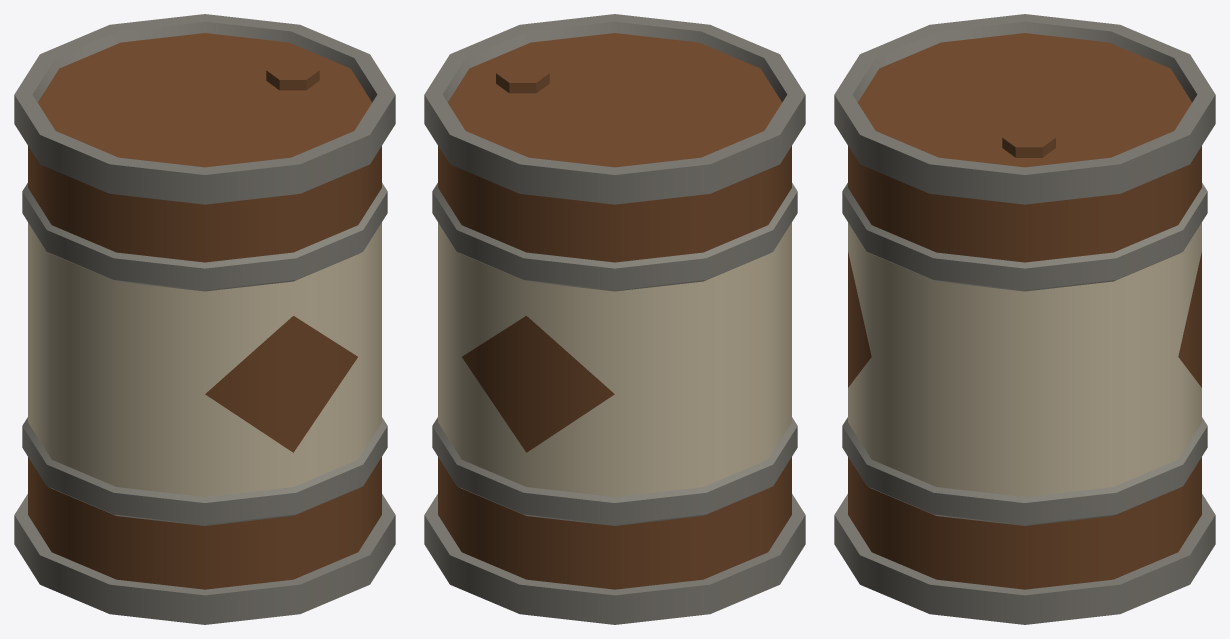
Rendered from cc0-exploding-barrel-lod1.glb.
The picture shows the model from 3 angles, left to right: view 1: azimuth 30°, elevation 25°; view 2: azimuth 150°, elevation 25°; view 3: azimuth 270°, elevation 25°; orthographic projection.
Parts seen in each view (by area): view 1: part_0; view 2: part_0; view 3: part_0.
Boxes of the visible parts, bbox=[...] form: part_0: bbox=[14, 14, 395, 624]; part_0: bbox=[424, 14, 805, 624]; part_0: bbox=[834, 14, 1215, 624].
Bounding box in the file's own units: 0.785 × 1.02 × 0.785.
